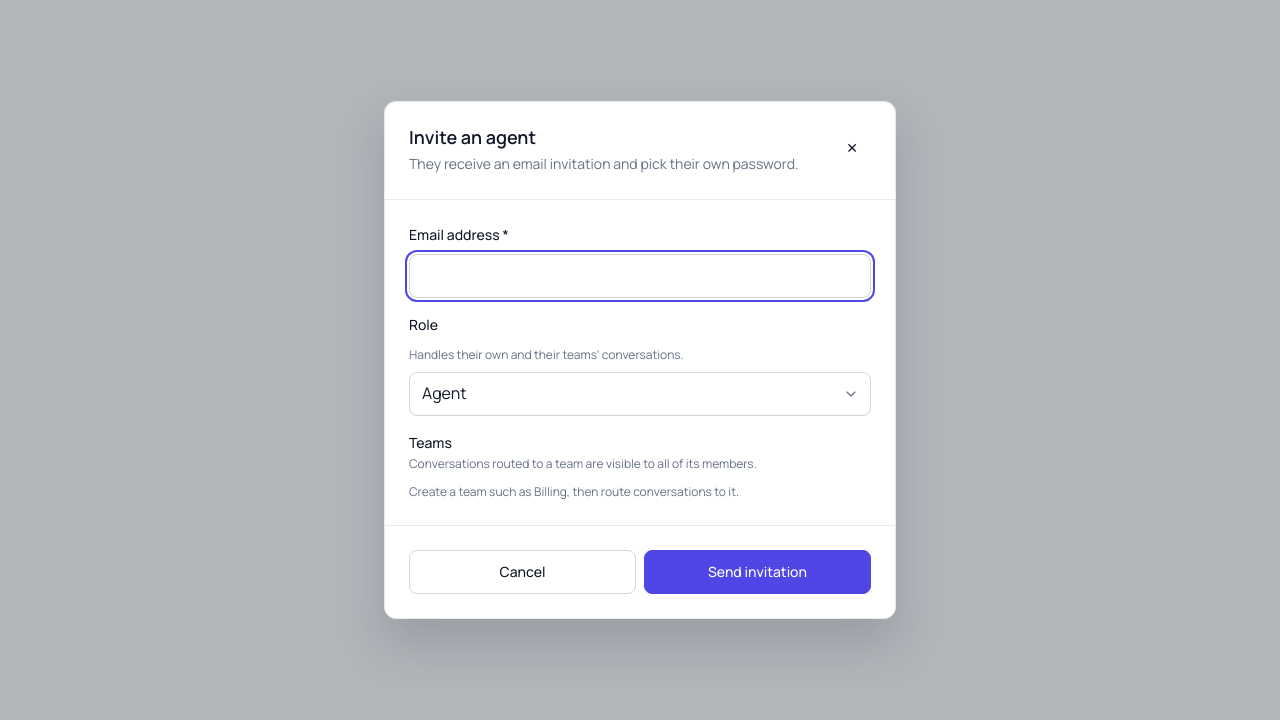
InviteAgentDialog › does not offer an upgrade for a refusal that is not about seats
The image size is (1280, 720).
Type "newcomer@northwind.example" into the field labelled "Email address *". click: (640, 276)
box: [409,254,871,298]
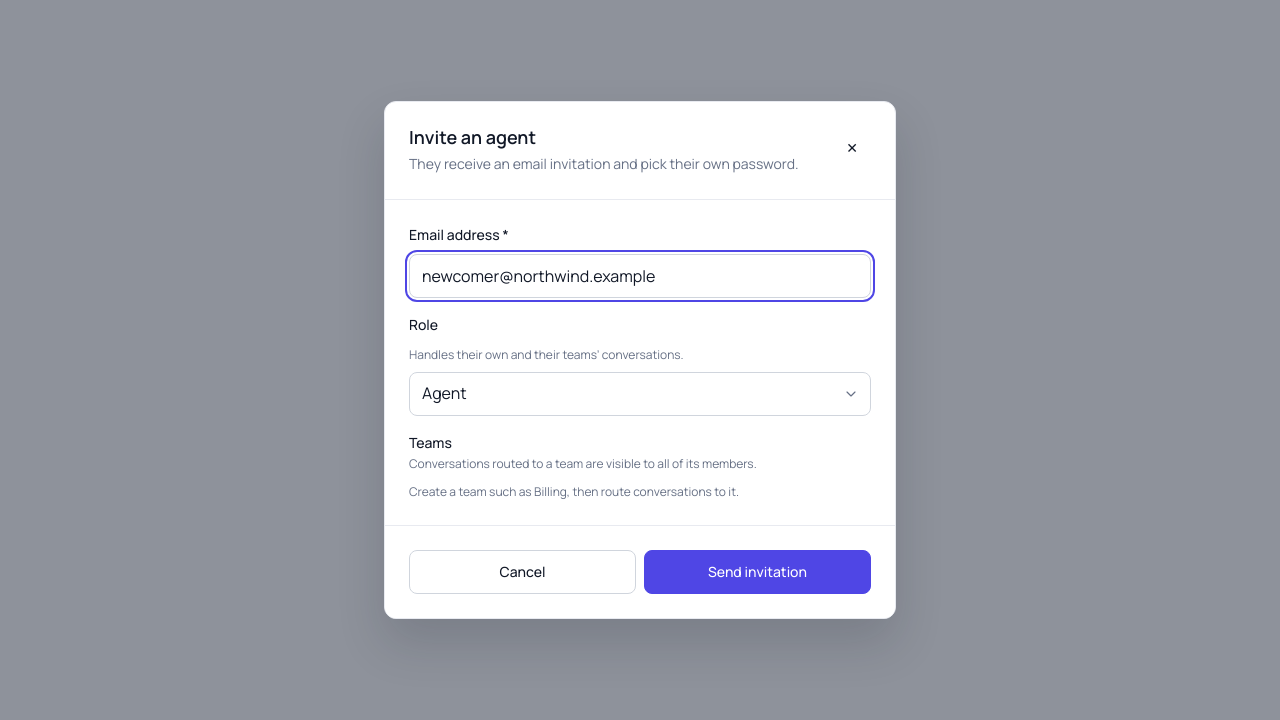
Click the button "Send invitation". click: (758, 572)
box: [644,550,871,594]
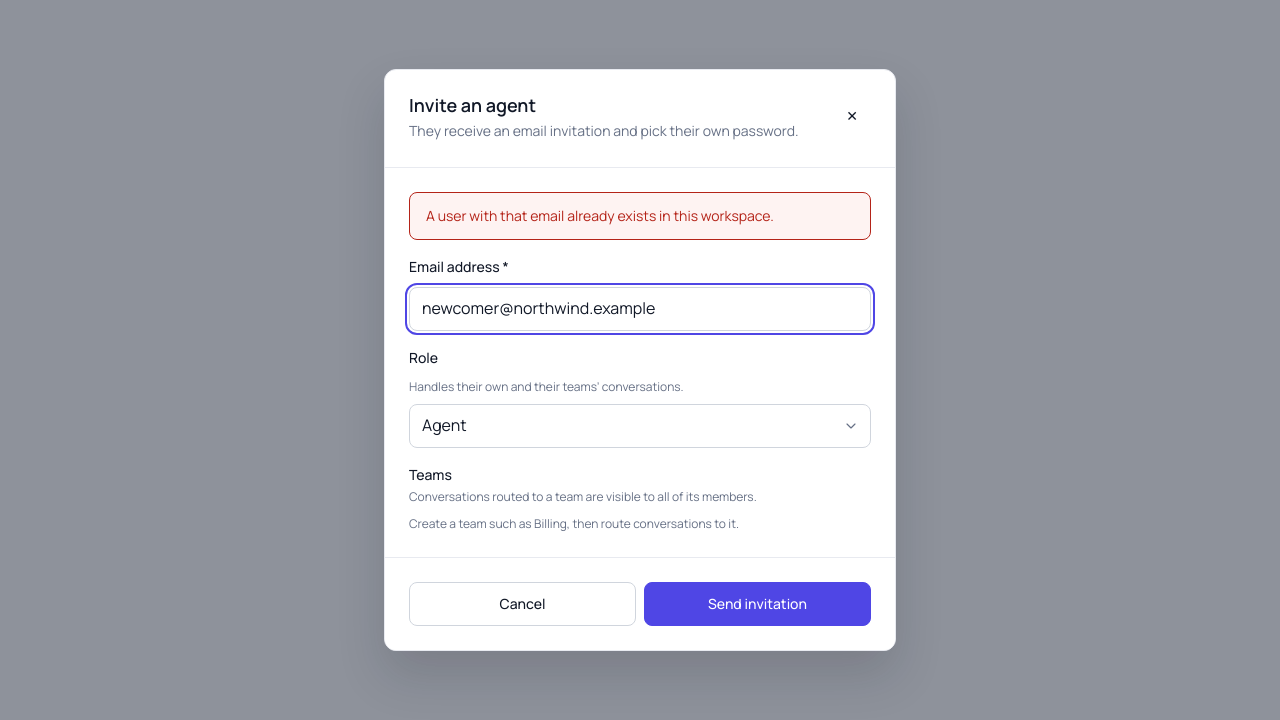
Check: the text "A user with that email already exists in this workspace." is shown, box [426,206,774,225]
